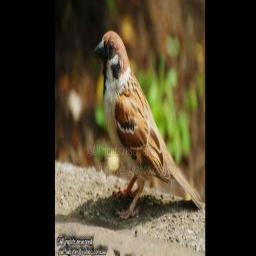Sparrow: (94, 28, 203, 220)
